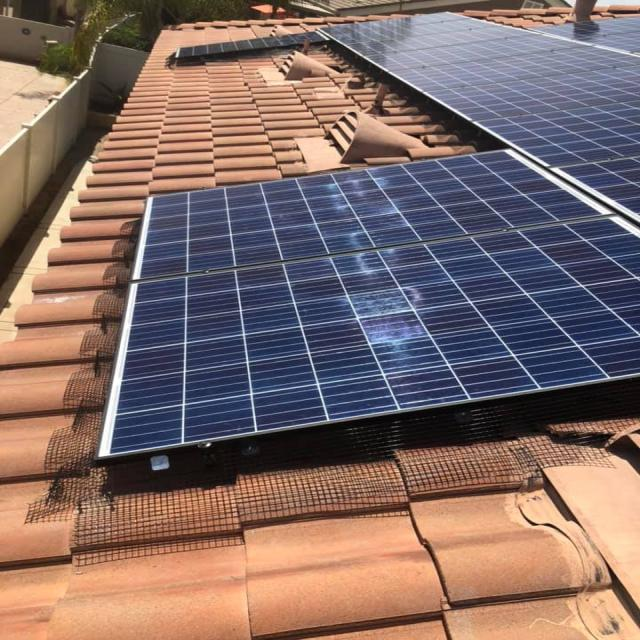clean-solar-panel: (98, 14, 638, 459)
